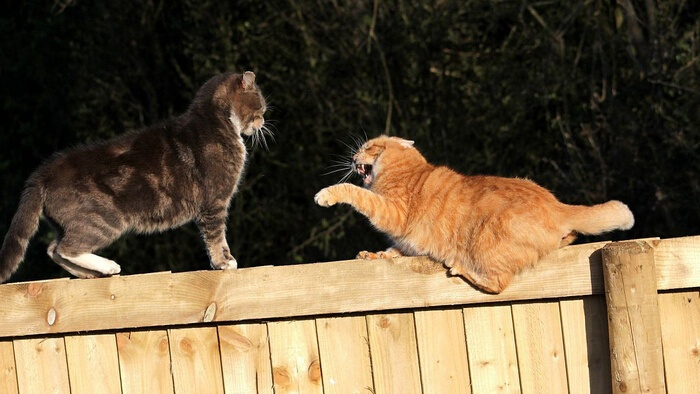cat: (1, 70, 268, 284), (315, 134, 635, 294)
